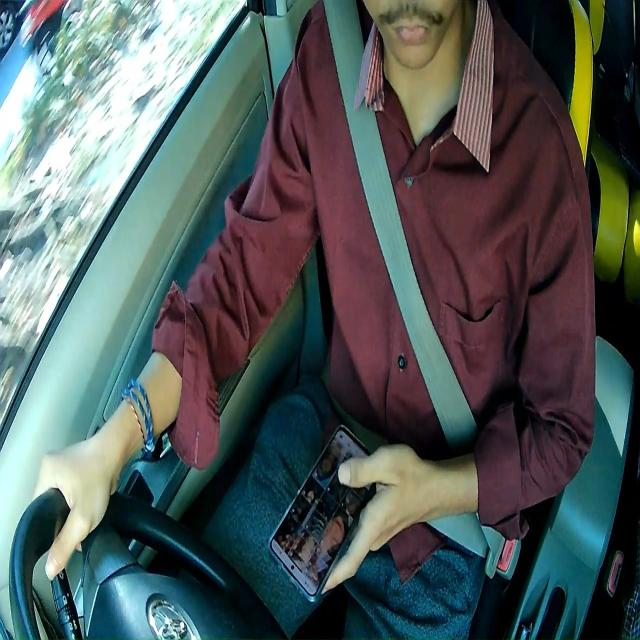phone: (267, 418, 375, 614)
